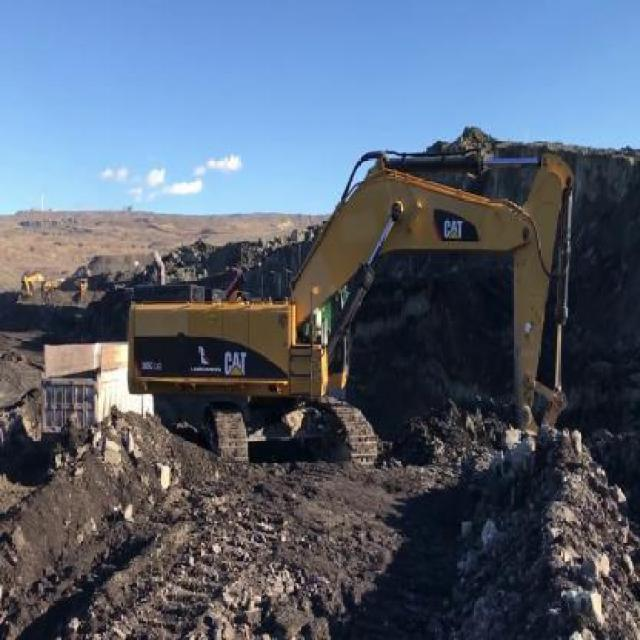Dump Truck: (37, 334, 128, 444)
Excavator: (124, 138, 578, 477)
